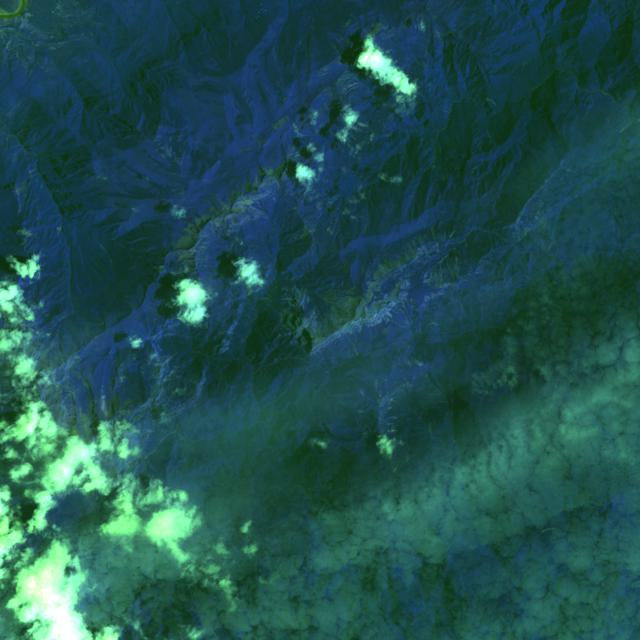landslides: (432, 128, 449, 182), (285, 551, 304, 585), (95, 238, 112, 267), (15, 173, 36, 195), (175, 233, 196, 254), (341, 327, 355, 350), (399, 430, 428, 440), (357, 318, 366, 347), (581, 423, 601, 436), (435, 460, 456, 472), (60, 463, 74, 481), (183, 227, 200, 241), (127, 488, 146, 500), (619, 122, 635, 136), (419, 244, 433, 260), (218, 197, 231, 214), (160, 309, 177, 322), (225, 295, 244, 306), (201, 228, 217, 241), (209, 202, 222, 217), (206, 221, 218, 236), (541, 526, 563, 534), (359, 123, 375, 134), (434, 523, 459, 530), (12, 147, 23, 162), (563, 406, 580, 415), (574, 415, 595, 422), (18, 194, 25, 214), (572, 347, 595, 353), (491, 386, 506, 395), (56, 480, 63, 499), (408, 244, 416, 260), (293, 123, 302, 137), (436, 30, 443, 48), (436, 243, 445, 257), (367, 99, 378, 110), (212, 219, 222, 231), (379, 418, 394, 426), (407, 422, 423, 429), (272, 177, 280, 191), (547, 242, 555, 255), (450, 227, 460, 237)
